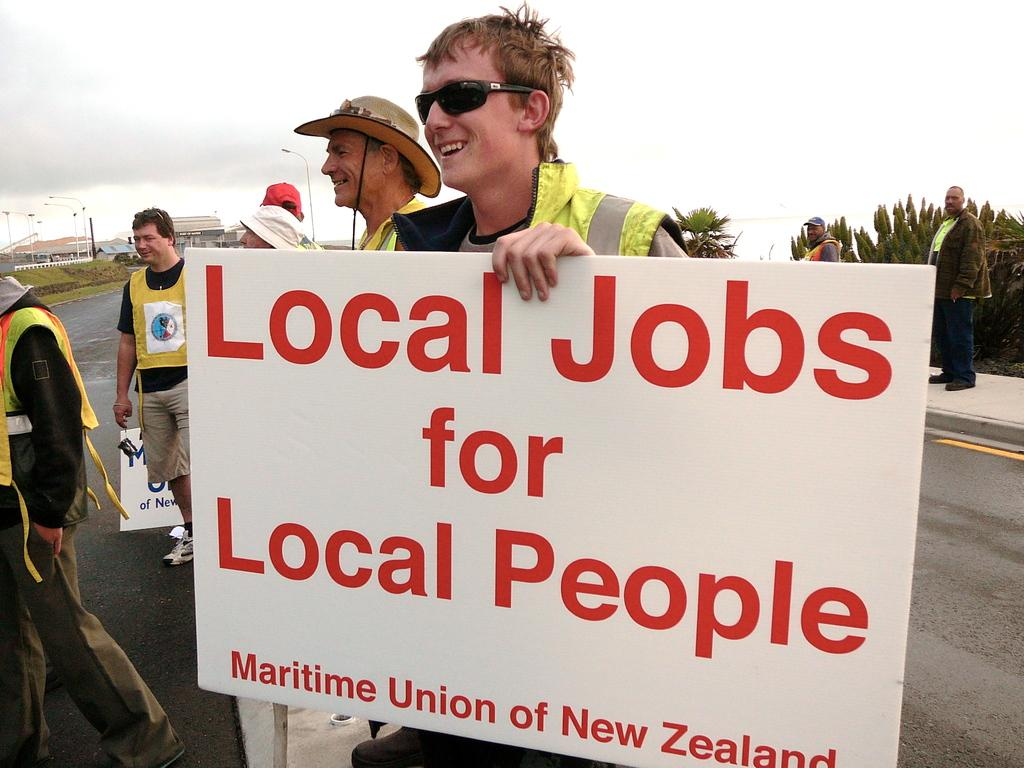Hat: (292, 94, 446, 195), (240, 205, 302, 252), (262, 182, 302, 216), (0, 276, 30, 320), (802, 212, 826, 226)
